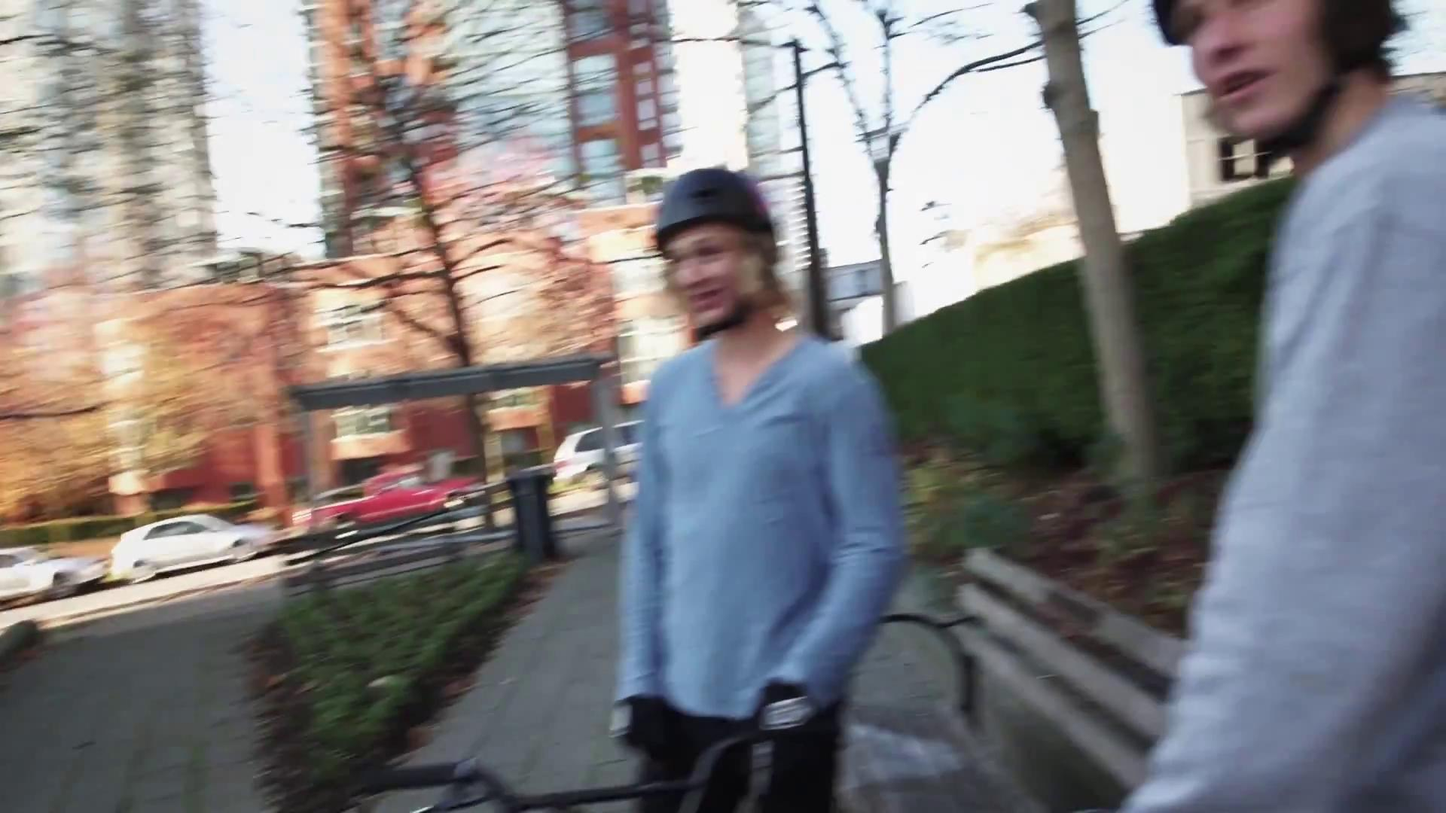victim: (1095, 1, 1446, 804), (599, 160, 908, 809)
